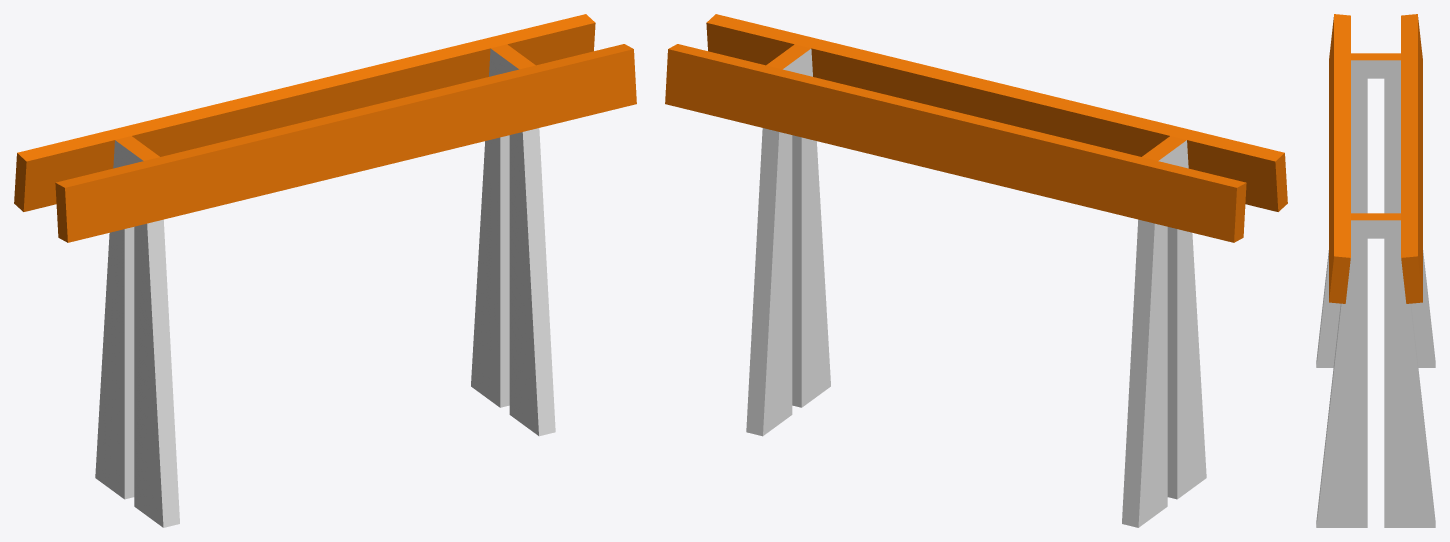
File: RoadBlockA.fbx
3 renders of one model, left to right at view 1: azimuth 30°, elevation 25°; view 2: azimuth 150°, elevation 25°; view 3: azimuth 270°, elevation 25°, orthographic. The views are drawn at different scales.
Visible parts, largest first — view 1: RoadBlockA_PeiceA, RoadBlockA, RoadBlockA_LRearLeg, RoadBlockA_RRearLeg, RoadBlockA_RFrontLeg, RoadBlockA_LFrontLeg; view 2: RoadBlockA, RoadBlockA_PeiceA, RoadBlockA_LFrontLeg, RoadBlockA_RFrontLeg, RoadBlockA_RRearLeg, RoadBlockA_LRearLeg; view 3: RoadBlockA_LFrontLeg, RoadBlockA_LRearLeg, RoadBlockA, RoadBlockA_PeiceA, RoadBlockA_RFrontLeg, RoadBlockA_RRearLeg.
Boxes of the visible parts, x1,y1,x2,y2 form: RoadBlockA_PeiceA: (55, 44, 636, 242); RoadBlockA: (14, 14, 595, 211); RoadBlockA_LRearLeg: (509, 58, 555, 436); RoadBlockA_RRearLeg: (134, 150, 179, 527); RoadBlockA_RFrontLeg: (95, 136, 150, 499); RoadBlockA_LFrontLeg: (471, 44, 525, 407); RoadBlockA: (665, 44, 1246, 242); RoadBlockA_PeiceA: (706, 14, 1287, 211); RoadBlockA_LFrontLeg: (746, 51, 801, 436); RoadBlockA_RFrontLeg: (1122, 143, 1177, 527); RoadBlockA_RRearLeg: (1161, 136, 1206, 499); RoadBlockA_LRearLeg: (785, 44, 830, 407); RoadBlockA_LFrontLeg: (1367, 213, 1435, 527); RoadBlockA_LRearLeg: (1316, 213, 1367, 527); RoadBlockA: (1401, 14, 1422, 303); RoadBlockA_PeiceA: (1329, 14, 1350, 303); RoadBlockA_RFrontLeg: (1367, 53, 1435, 367); RoadBlockA_RRearLeg: (1316, 53, 1367, 367).
Bounding box in the file's own units: 95.82 × 57 × 19.9.
1 material, 1 textured.
